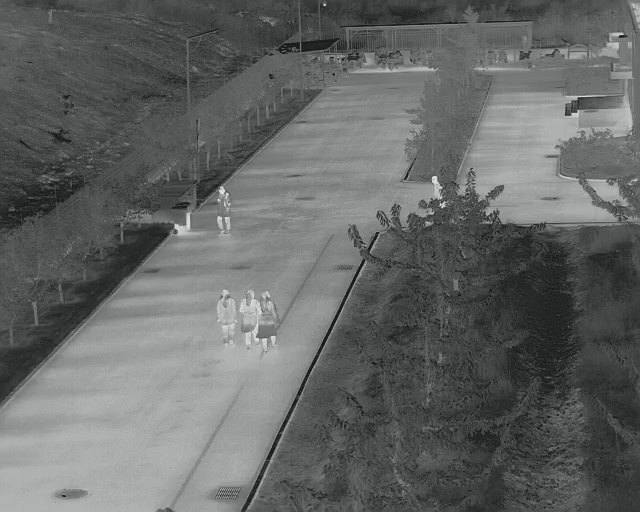person: (257, 289, 279, 355), (239, 289, 259, 350), (216, 289, 236, 347), (214, 185, 234, 236)
